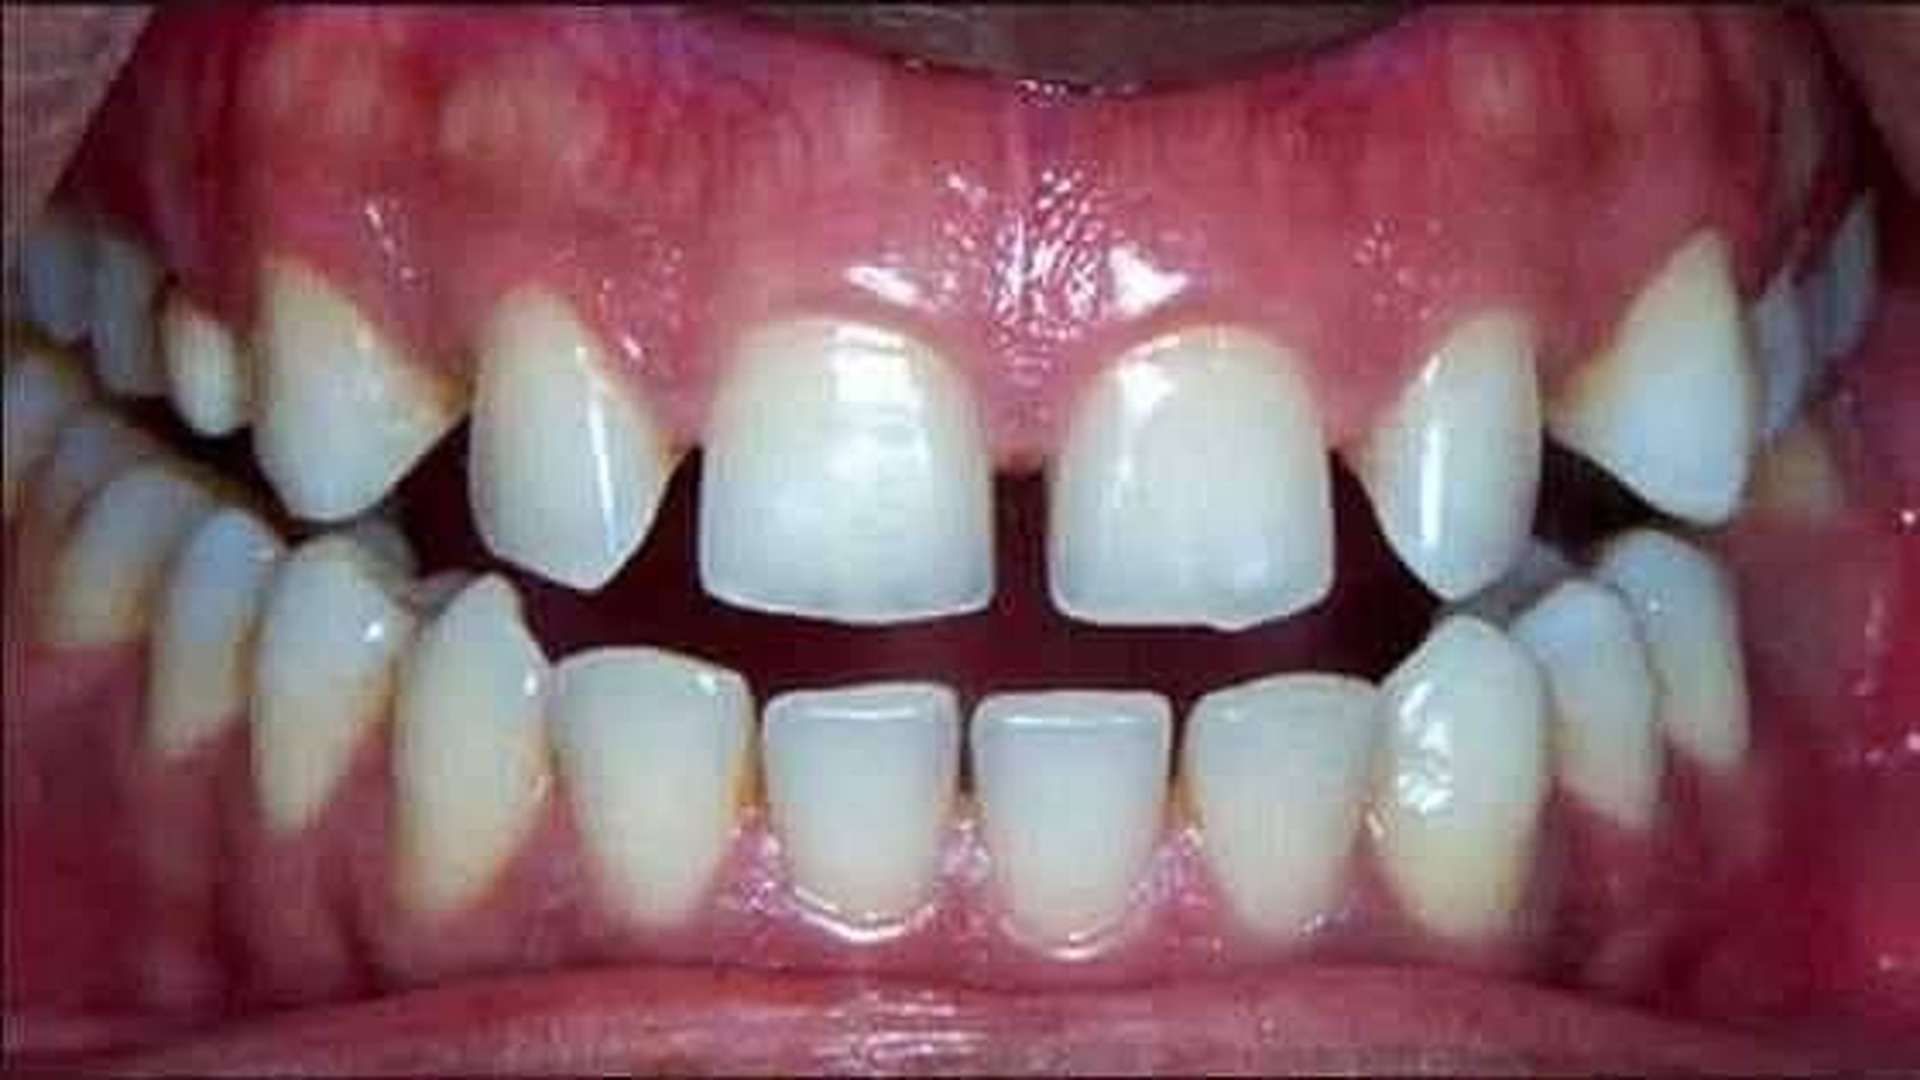tooth: (698, 316, 996, 624), (1044, 332, 1336, 630), (1509, 531, 1749, 827), (1545, 227, 1756, 527), (1333, 306, 1542, 603), (468, 287, 666, 589), (1367, 613, 1548, 939), (546, 649, 754, 924), (251, 265, 467, 524), (1185, 673, 1385, 936), (392, 572, 546, 910), (971, 692, 1174, 945), (251, 524, 407, 837), (762, 680, 957, 916), (142, 502, 278, 753)
